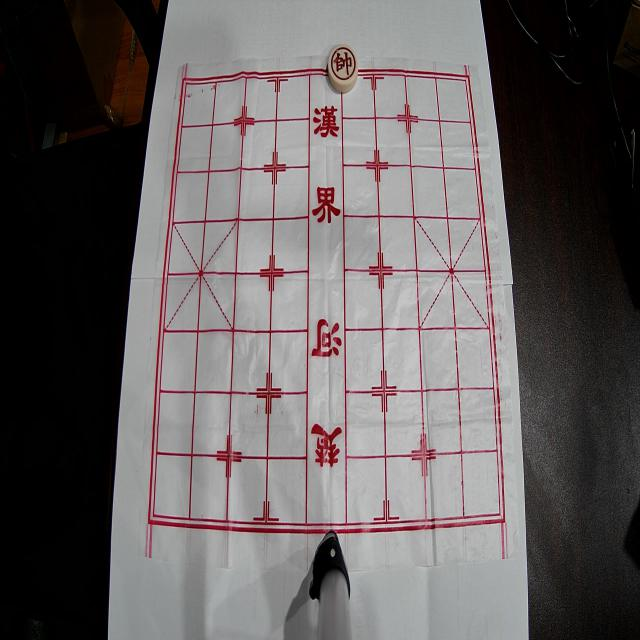red-general: (328, 44, 358, 92)
